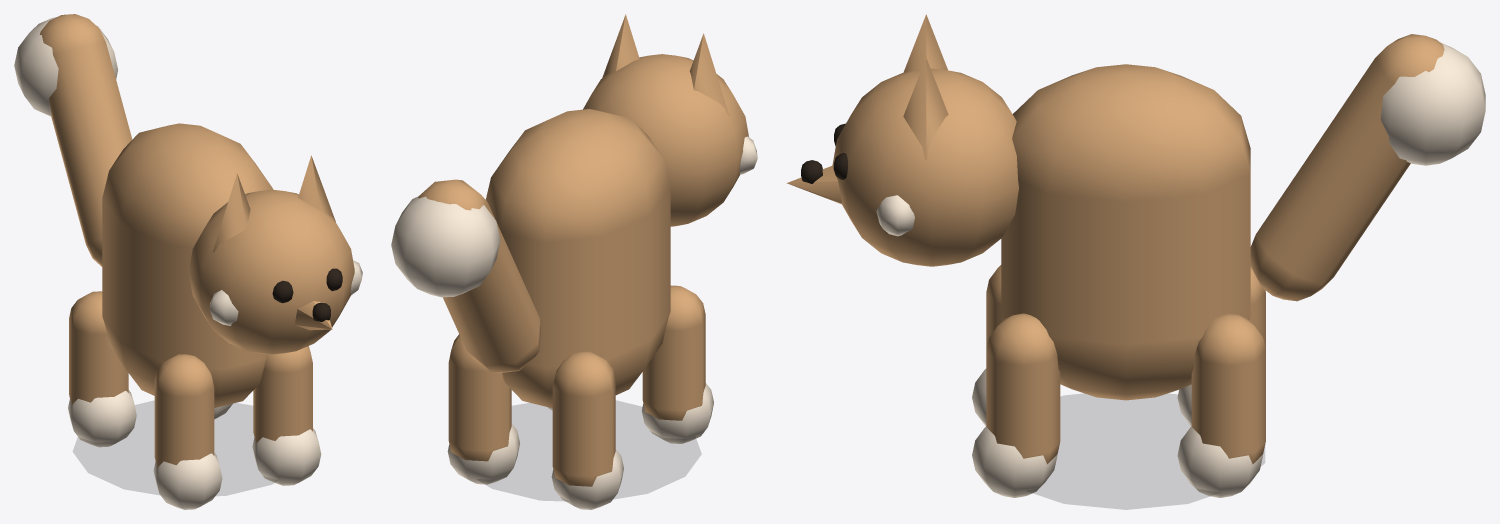
Rendered from fox.glb.
3 views of the same model, side by side, from view 1: azimuth 30°, elevation 25°; view 2: azimuth 150°, elevation 25°; view 3: azimuth 270°, elevation 25° (orthographic). The views are drawn at different scales.
Visible parts, largest first — view 1: object 5, Head, Tail, Leg_1, Leg_3, Leg_0, object 8; view 2: object 5, Tail, Head, Leg_0, object 8, Leg_1, Leg_2; view 3: object 5, Head, Tail, object 8, Leg_3, Leg_2, Leg_1, Leg_0.
Boxes of the visible parts, left/top/right/bottom form: object 5: left=102, top=123, right=273, bottom=407; Head: left=188, top=155, right=362, bottom=354; Tail: left=14, top=14, right=132, bottom=266; Leg_1: left=153, top=354, right=222, bottom=509; Leg_3: left=252, top=346, right=321, bottom=485; Leg_0: left=68, top=291, right=136, bottom=447; object 8: left=73, top=401, right=276, bottom=495; object 5: left=485, top=109, right=670, bottom=408; Tail: left=391, top=179, right=540, bottom=373; Head: left=583, top=14, right=757, bottom=226; Leg_0: left=551, top=351, right=623, bottom=509; object 8: left=477, top=401, right=700, bottom=500; Leg_1: left=641, top=285, right=713, bottom=443; Leg_2: left=447, top=334, right=519, bottom=484; object 5: left=1001, top=64, right=1250, bottom=400; Head: left=786, top=14, right=1018, bottom=266; Tail: left=1250, top=34, right=1485, bottom=301; object 8: left=1028, top=394, right=1264, bottom=509; Leg_3: left=972, top=313, right=1060, bottom=497; Leg_2: left=1177, top=313, right=1265, bottom=497; Leg_1: left=972, top=265, right=1002, bottom=425; Leg_0: left=1177, top=266, right=1265, bottom=425.
Size of the model in its own units: 10 by 16.6 by 24.49.
